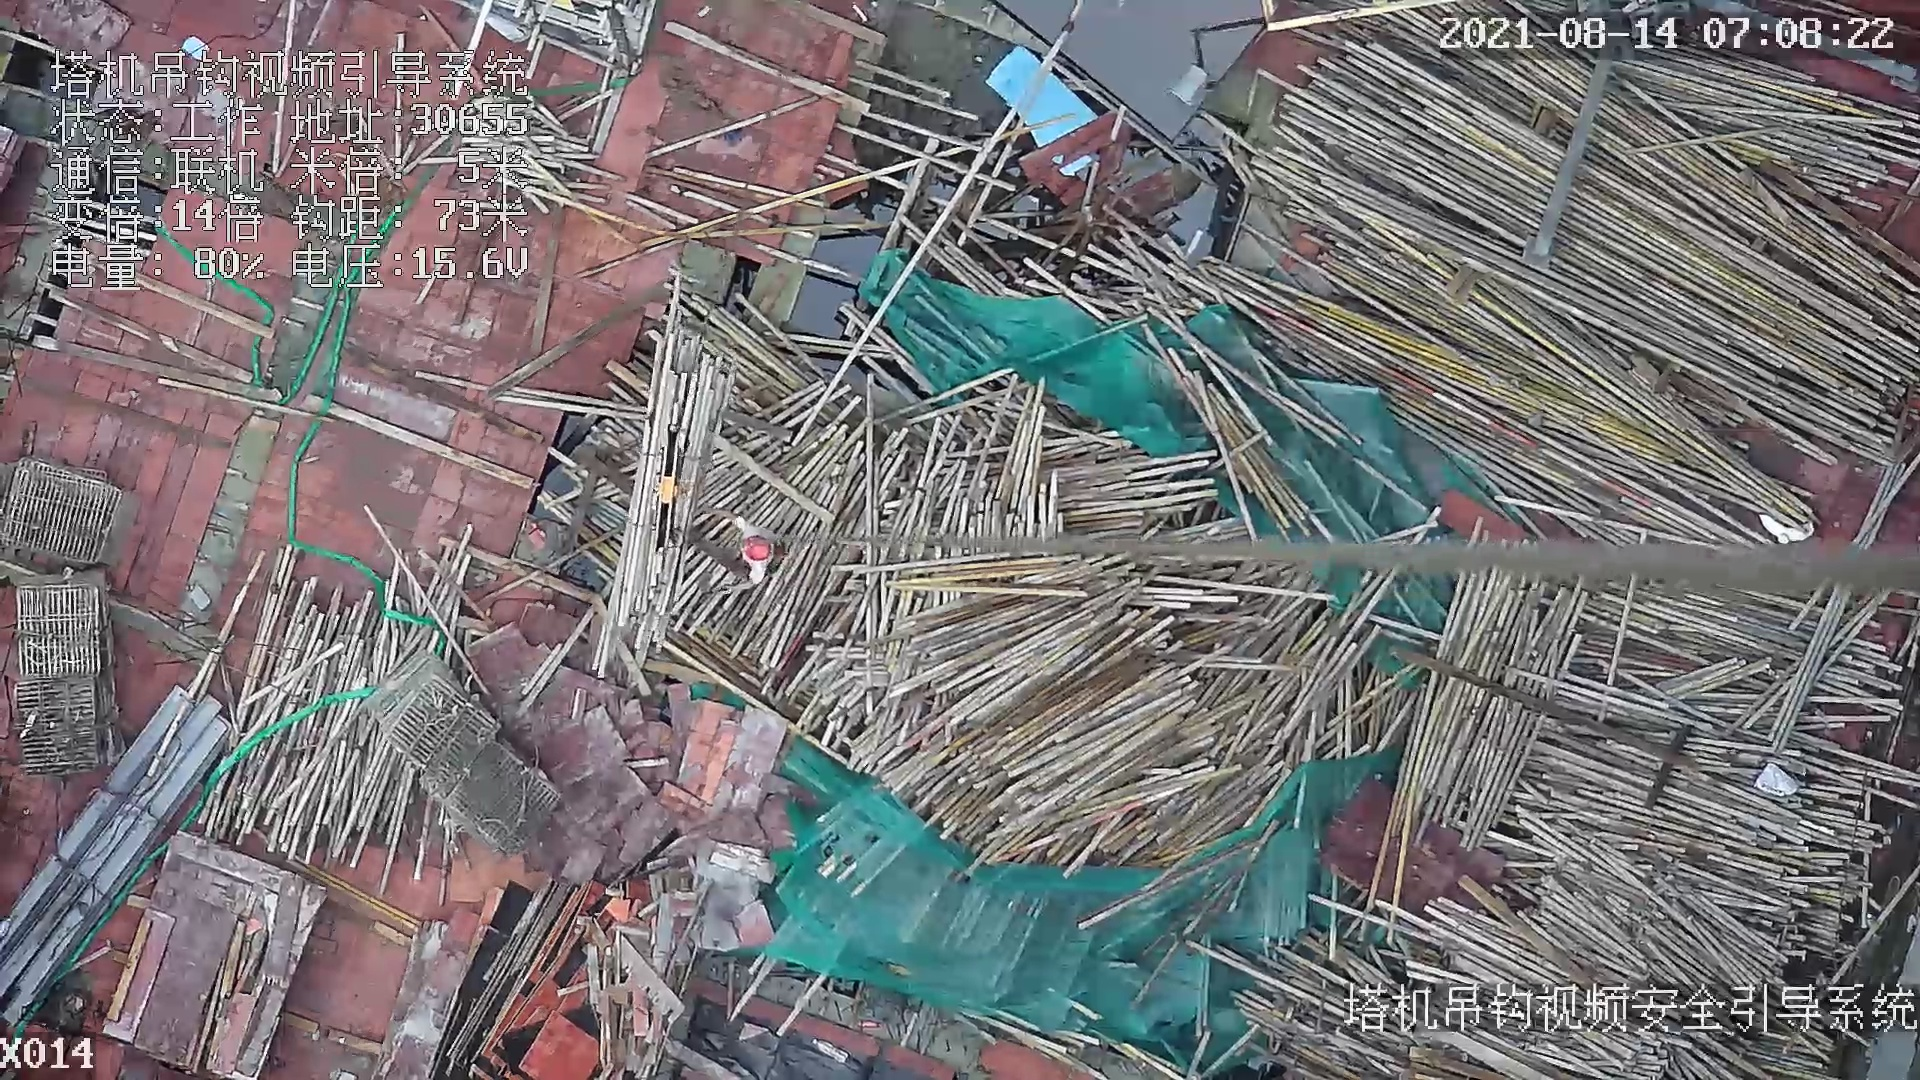helmet: (743, 536, 771, 562)
hook: (662, 424, 691, 554)
person: (729, 514, 782, 586)
